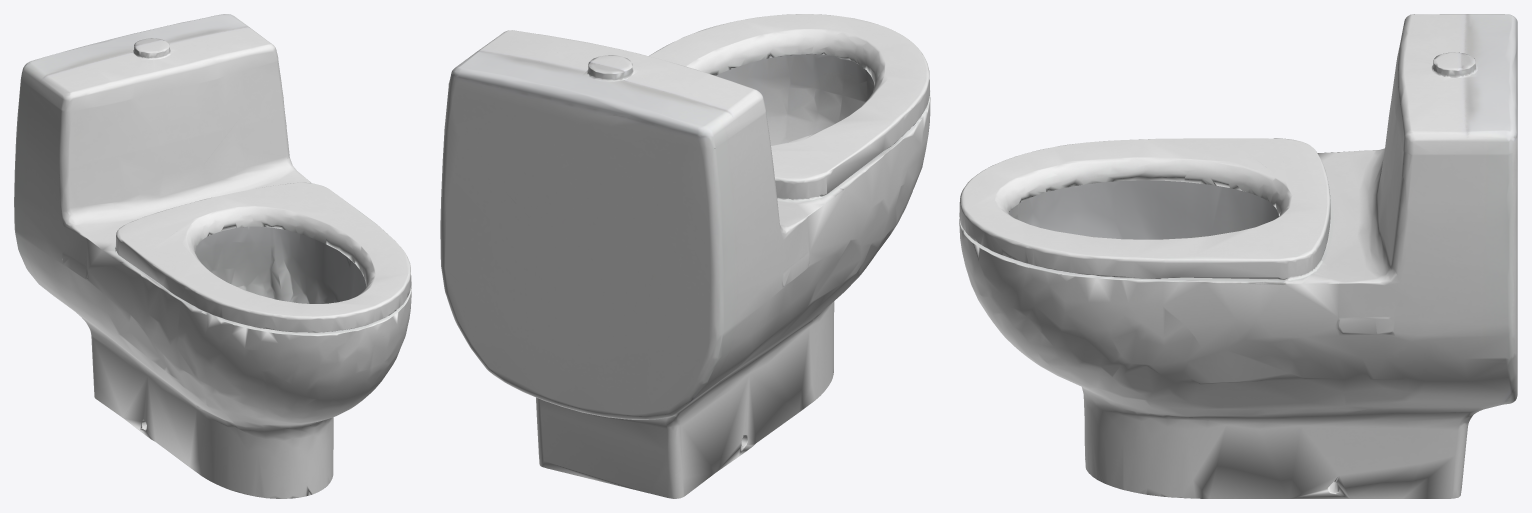
File: Env_Toilet.glb
3 views of the same model, side by side, from view 1: azimuth 30°, elevation 25°; view 2: azimuth 150°, elevation 25°; view 3: azimuth 270°, elevation 25° (orthographic). The views are drawn at different scales.
Size of the model in its own units: 1.08 by 1.52 by 1.9.
1 material, 1 textured.
